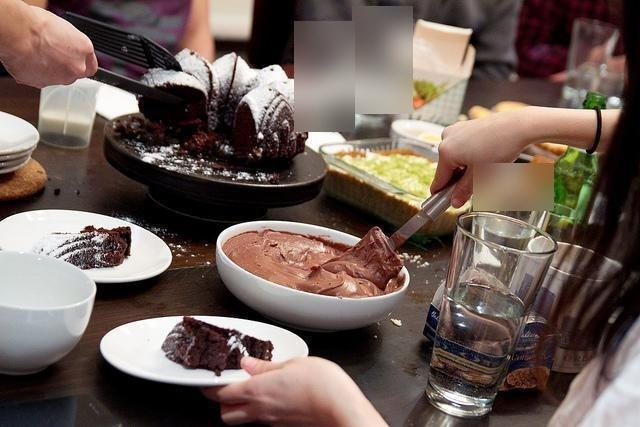glass-normal: (424, 209, 559, 419)
